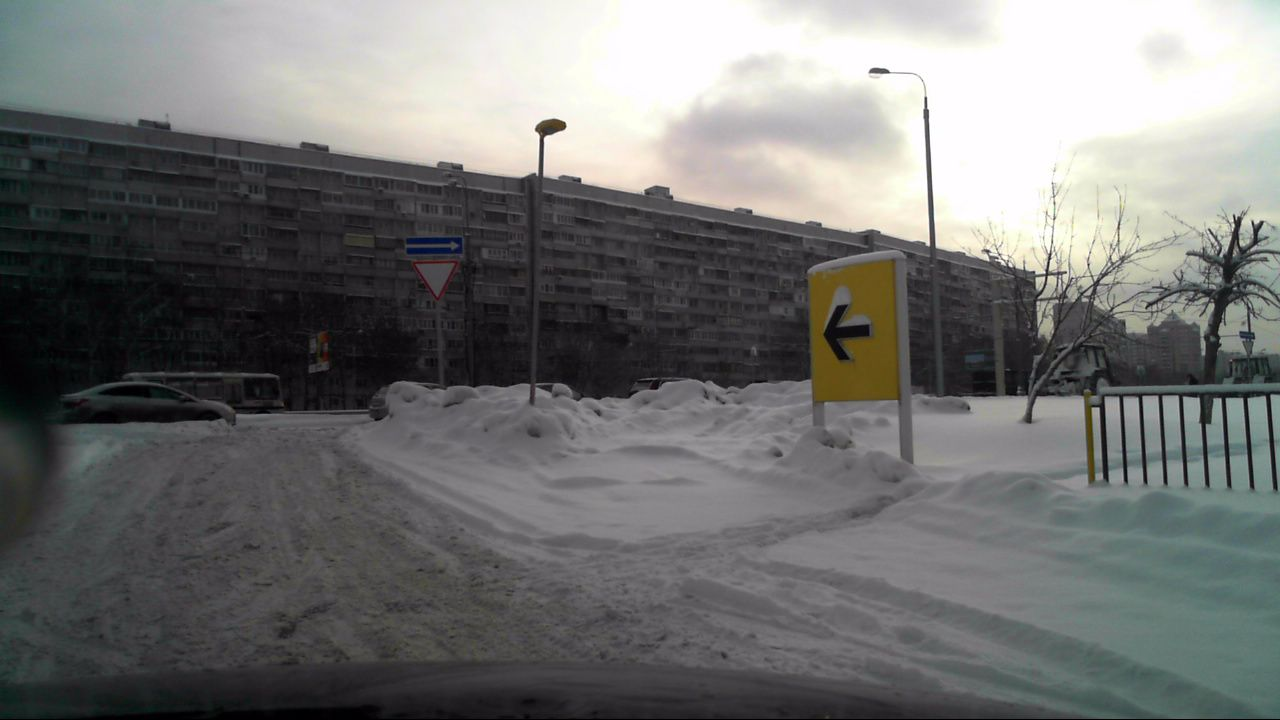One-Way Traffic: (406, 238, 463, 255)
